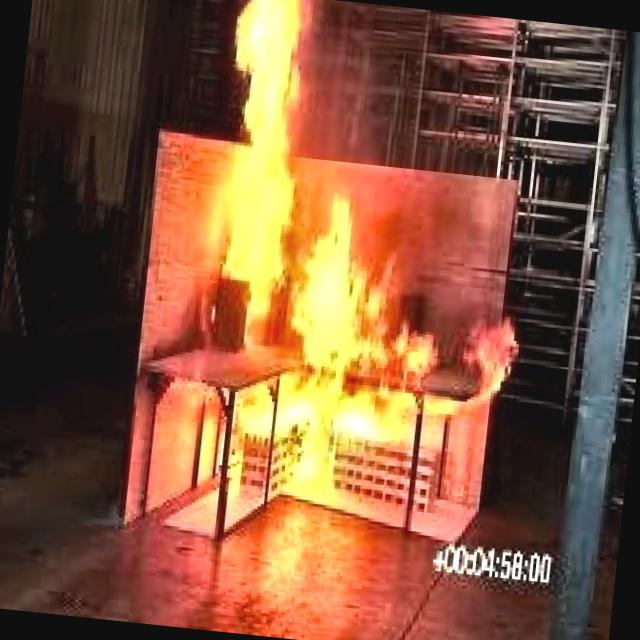fire: (132, 0, 495, 575)
